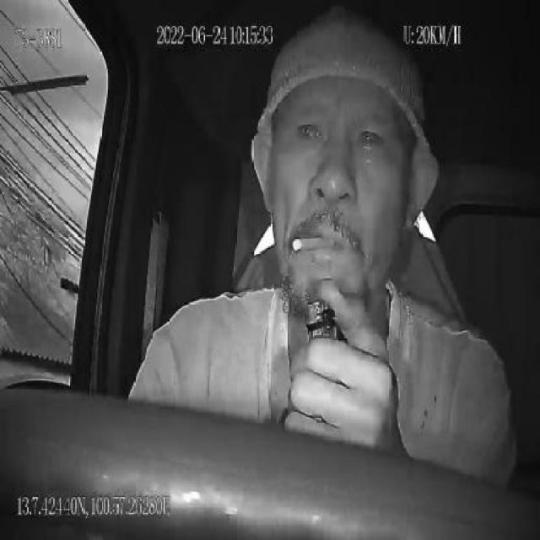smoking: (292, 226, 339, 257)
